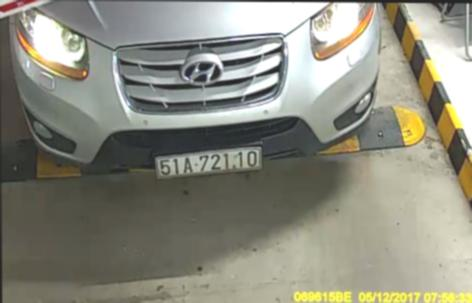License_Plate: (148, 135, 266, 182)
